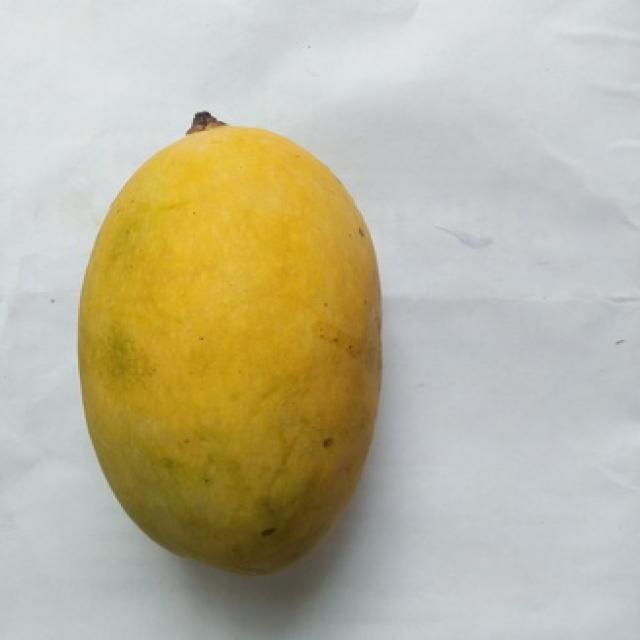Mango: (78, 123, 380, 570)
